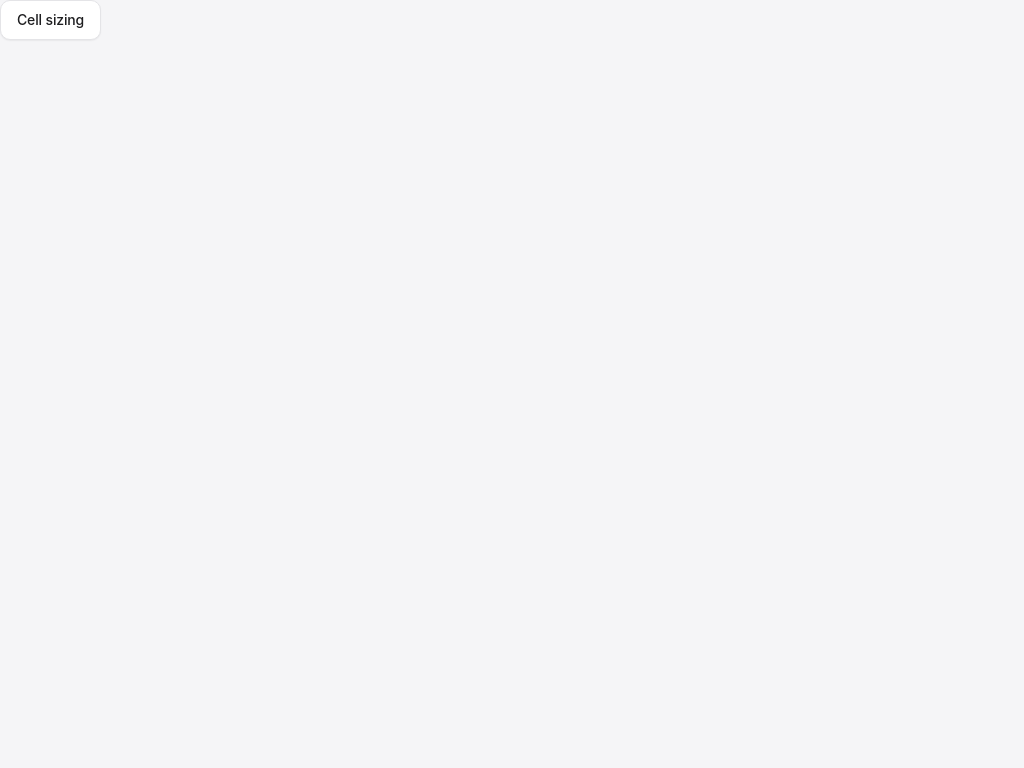
Test: locks unsaved design changes and keeps failed saves available for retry
Later steps or results of the test are not shown.
Click the button "Cell sizing": coordinates (51, 20) [0,0,101,40]
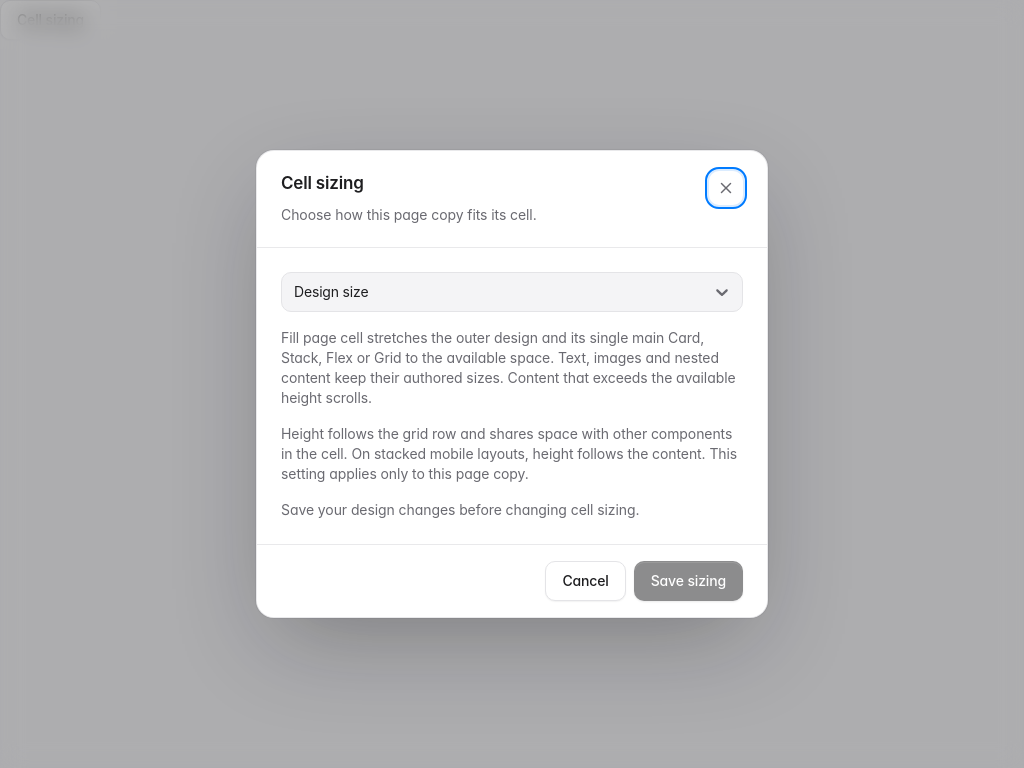
Expected: the element named "Visual component size" is disabled, [294,283,368,300]
Expected: the button "Save sizing" is disabled, [634,561,743,601]
